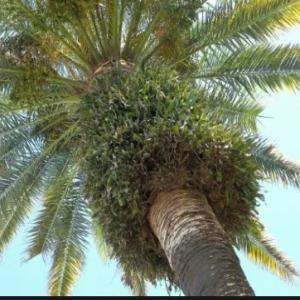palm tree: (0, 0, 299, 295)
